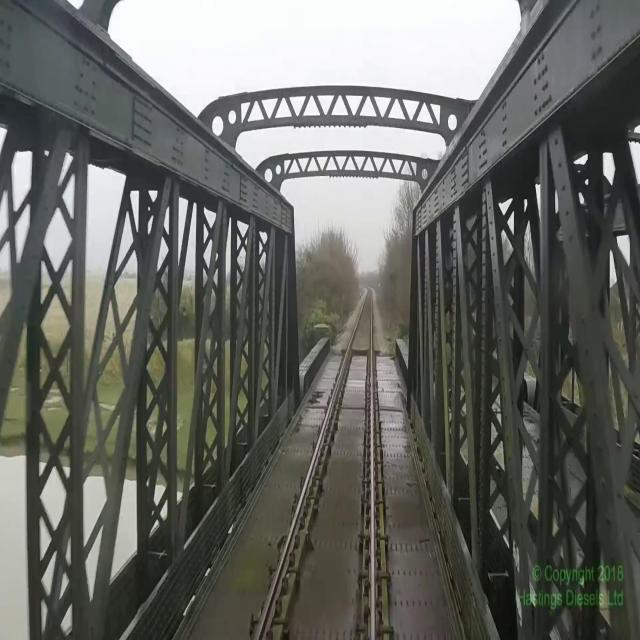rail-track: (262, 289, 371, 639)
